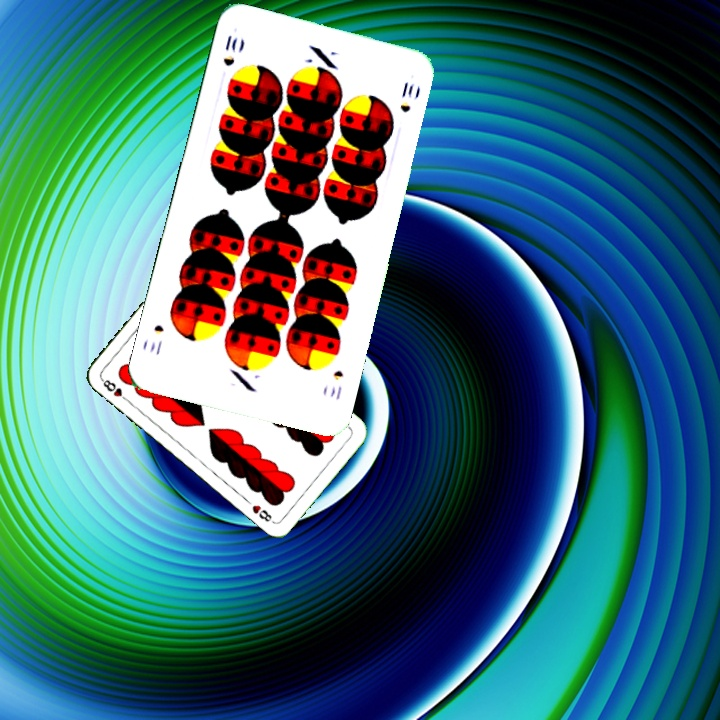H8: (97, 375, 132, 405)
S10: (219, 31, 240, 69), (326, 366, 346, 403)
